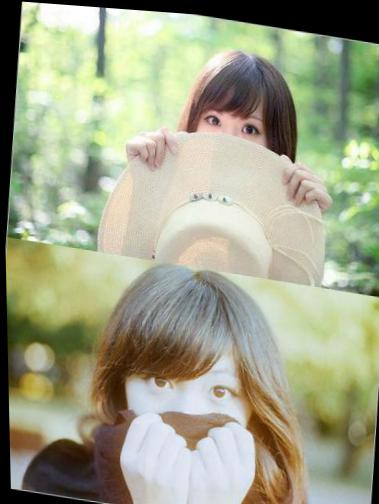NONE: (179, 90, 279, 194)
WRONG: (121, 341, 254, 480)
